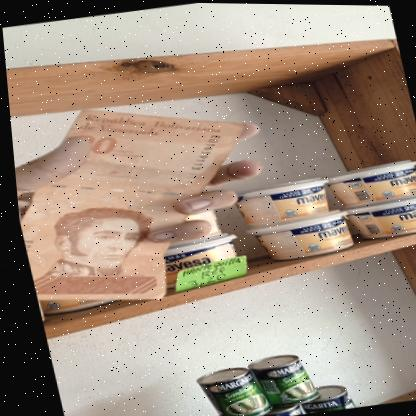vef_front: (6, 85, 280, 317)
